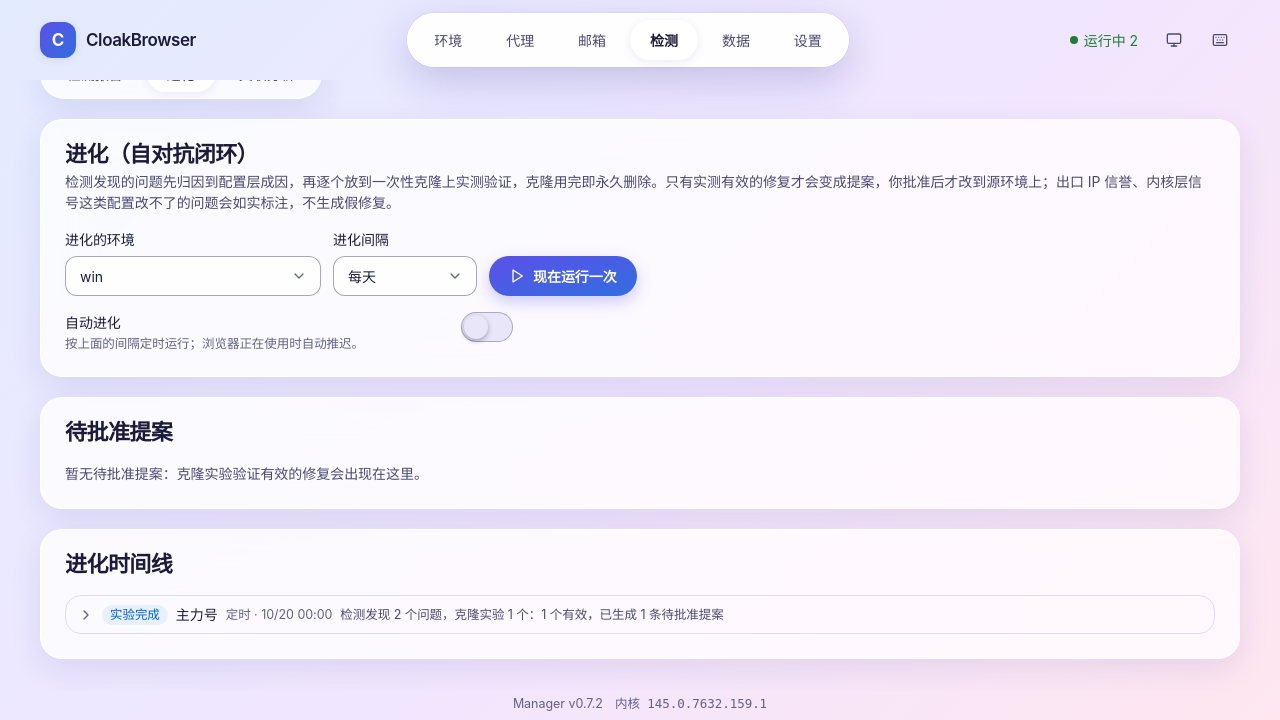
evolution › renders the timeline with experiment verdicts and unfixable reasons
The image size is (1280, 720).
(page scrolled)
Expected: the text "实验完成" is shown, [102,604,168,624]
Click the text "检测发现 2 个问题，克隆实验 1 个：1 个有效，已生成 1 条待批准提案": (532, 614) [340,607,724,622]
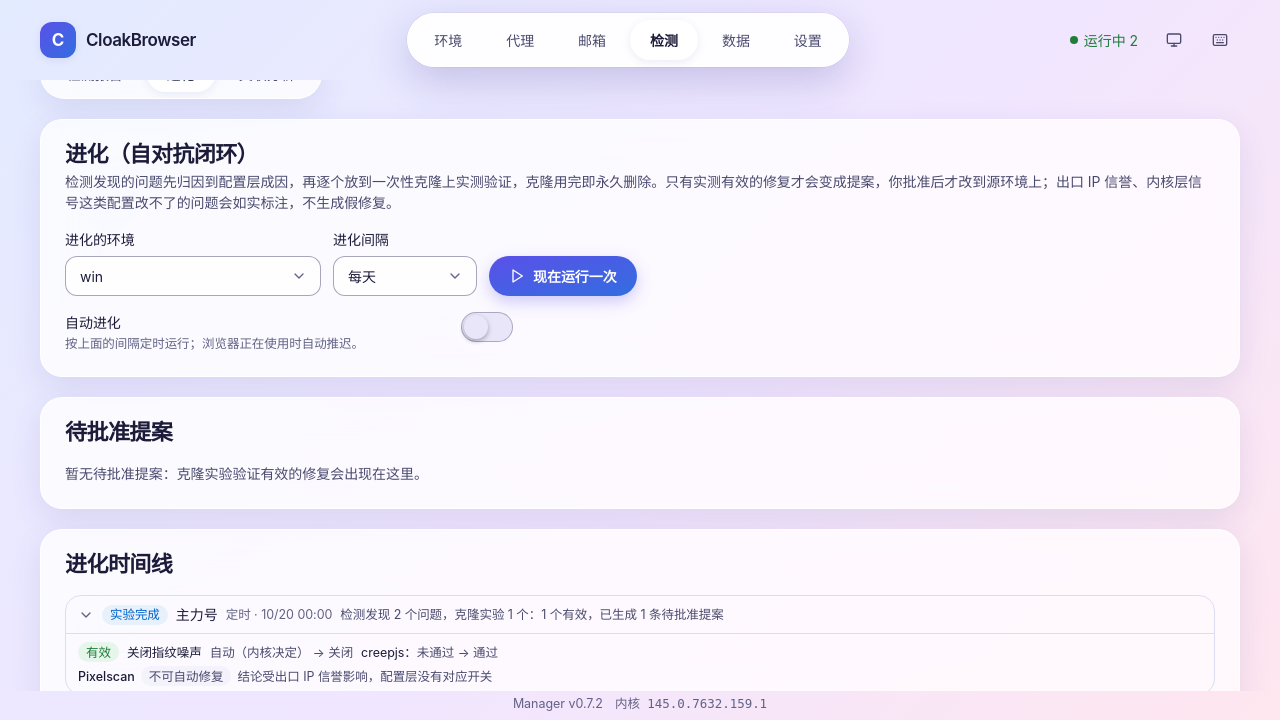
Result: the text "有效" is shown at [78,642,119,662]
Result: the text "不可自动修复" is shown at [141,666,232,686]
Result: the text "结论受出口 IP 信誉影响，配置层没有对应开关" is shown at [237,668,492,684]
